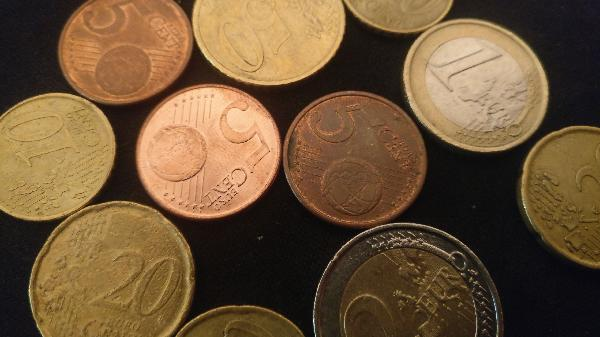Fifty Cent: (197, 1, 352, 85)
Five Cent: (134, 84, 285, 223), (284, 88, 426, 222), (59, 1, 191, 105)
One Euro: (402, 16, 551, 150)
Ten Cent: (1, 101, 124, 222), (331, 1, 459, 41)
Twenty Cent: (23, 202, 189, 337), (520, 122, 600, 267), (174, 303, 311, 337)
Two Euro: (312, 223, 507, 337)
